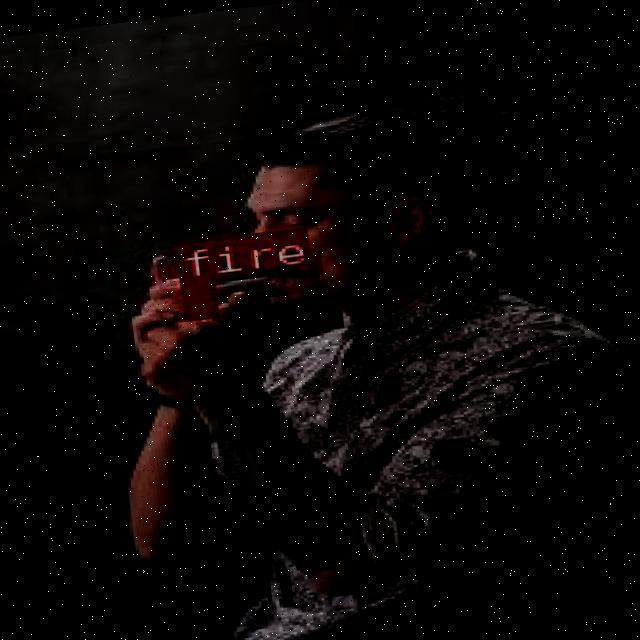fire: (178, 276, 212, 318)
